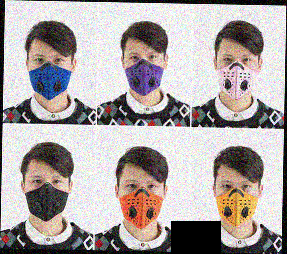with_mask: (120, 177, 164, 229), (24, 172, 68, 221), (28, 52, 71, 101), (217, 51, 259, 100), (216, 179, 259, 225), (126, 49, 164, 97)
